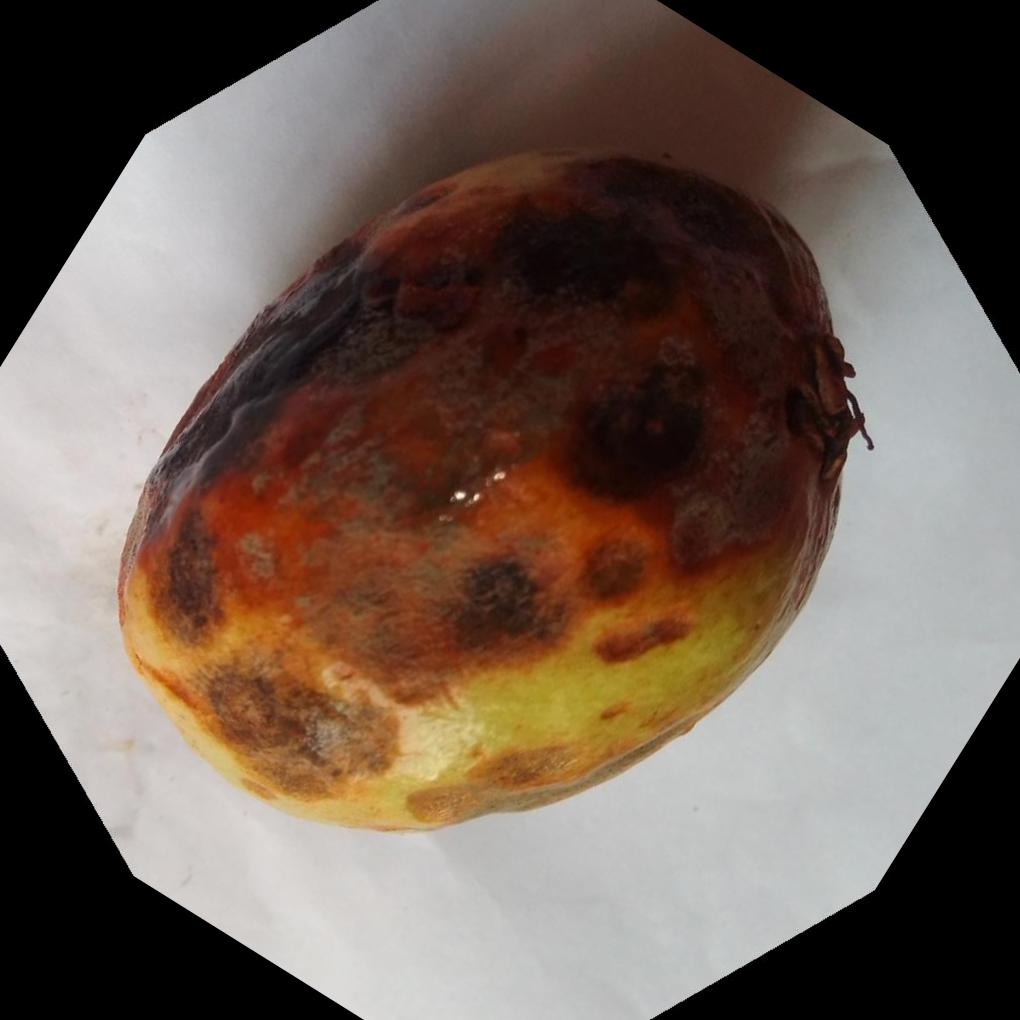FreshOrange: (111, 145, 867, 832)
